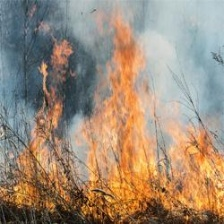fire: (9, 151, 224, 211), (100, 27, 148, 153), (34, 41, 72, 150)
smoke: (151, 11, 222, 126)
